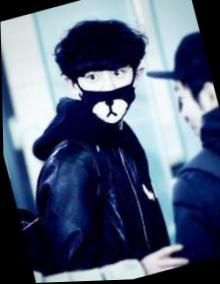NONE: (172, 81, 220, 150)
WRONG: (76, 57, 147, 129)
